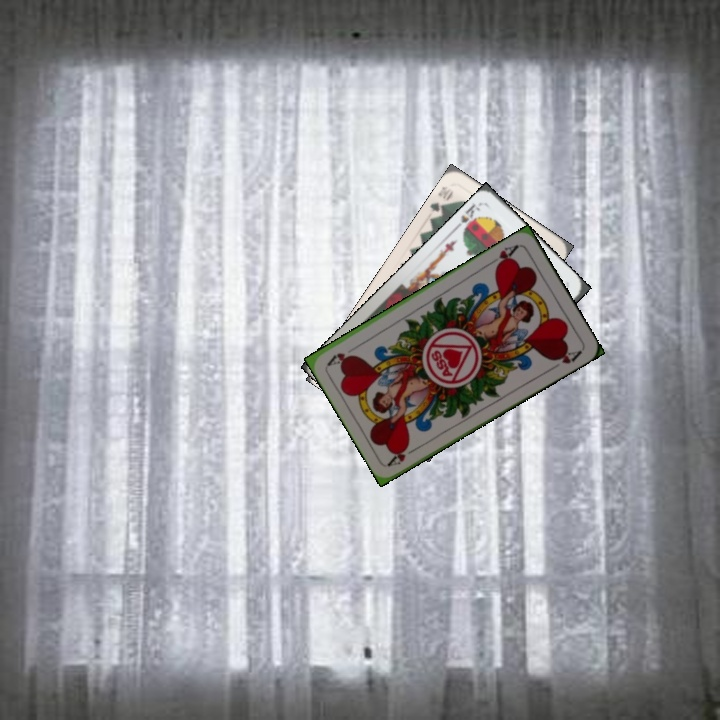G10: (426, 182, 456, 217)
HA: (485, 240, 521, 271), (384, 441, 422, 469)
SK: (451, 200, 485, 237)
